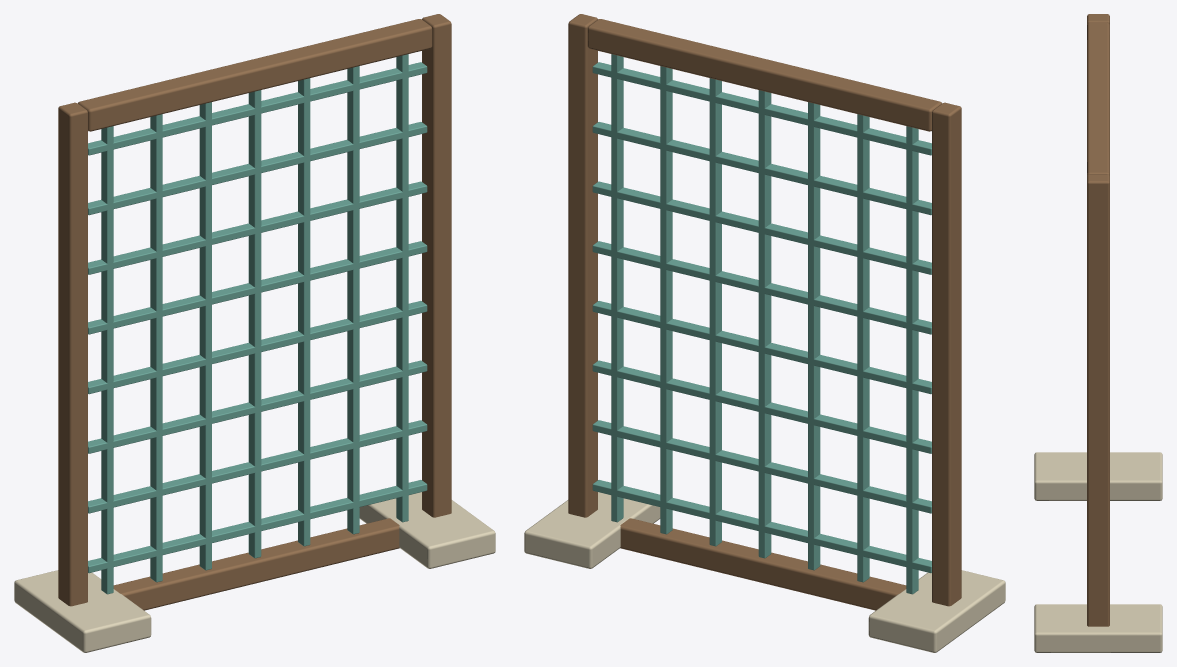
Rendered from fantasy-bathhouse-and-thermal-sanctuary-fantasy-bathho-50b90995__29456.glb.
The picture shows the model from 3 angles, left to right: view 1: azimuth 30°, elevation 25°; view 2: azimuth 150°, elevation 25°; view 3: azimuth 270°, elevation 25°; orthographic projection. The views are drawn at different scales.
Parts seen in each view (by area): view 1: fantasy-bathhouse-and-thermal-sanctuary-privacy-lattice; view 2: fantasy-bathhouse-and-thermal-sanctuary-privacy-lattice; view 3: fantasy-bathhouse-and-thermal-sanctuary-privacy-lattice.
Part boxes in pixels (x1,y1,x2,y2): fantasy-bathhouse-and-thermal-sanctuary-privacy-lattice: (14, 14, 495, 652); fantasy-bathhouse-and-thermal-sanctuary-privacy-lattice: (524, 14, 1005, 652); fantasy-bathhouse-and-thermal-sanctuary-privacy-lattice: (1034, 14, 1162, 652).
Size of the model in its own units: 1.51 by 1.8 by 0.45.
